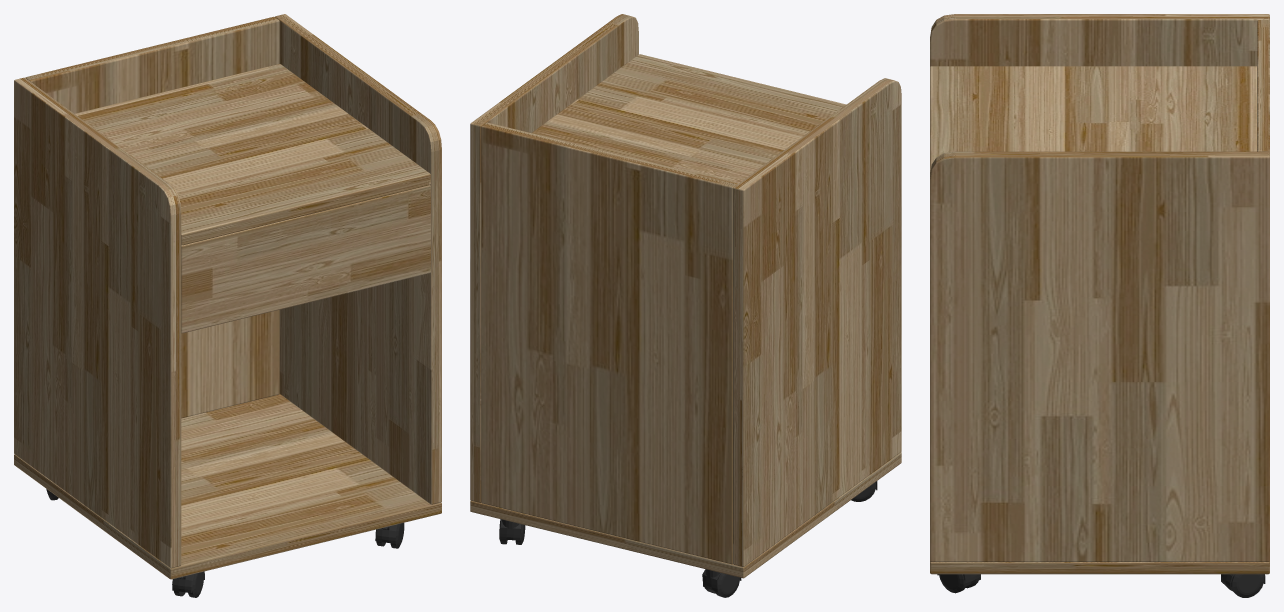
3 renders of one model, left to right at view 1: azimuth 30°, elevation 25°; view 2: azimuth 150°, elevation 25°; view 3: azimuth 270°, elevation 25°, orthographic. The views are drawn at different scales.
Parts seen in each view (by area): view 1: Object.012, Object010.003, Object006.003, Object002.009, Object004.004, Object008.003, 4483893, 4483892; view 2: Object008.003, Object.012, Object006.003, Object010.003, Object002.009, 4483894; view 3: Object010.003, Object006.003, Object.012, Object002.009, Object008.003, 4483895, 4483892.
Part boxes in pixels (left/top/right/bottom): Object.012: left=14, top=77, right=181, bottom=568; Object010.003: left=275, top=14, right=441, bottom=504; Object006.003: left=74, top=64, right=430, bottom=245; Object002.009: left=14, top=394, right=441, bottom=579; Object004.004: left=181, top=185, right=430, bottom=333; Object008.003: left=25, top=16, right=279, bottom=418; 4483893: left=172, top=571, right=204, bottom=597; 4483892: left=375, top=523, right=404, bottom=548; Object008.003: left=481, top=122, right=737, bottom=564; Object.012: left=733, top=78, right=901, bottom=566; Object006.003: left=532, top=54, right=846, bottom=183; Object010.003: left=470, top=14, right=638, bottom=502; Object002.009: left=470, top=452, right=901, bottom=578; 4483894: left=702, top=569, right=741, bottom=597; Object010.003: left=930, top=151, right=1269, bottom=561; Object006.003: left=930, top=66, right=1257, bottom=173; Object.012: left=930, top=14, right=1269, bottom=66; Object002.009: left=930, top=561, right=1269, bottom=574; Object008.003: left=1257, top=20, right=1269, bottom=152; 4483895: left=1221, top=574, right=1265, bottom=597; 4483892: left=937, top=574, right=980, bottom=593.
Size of the model in its own units: 40.5 by 59.54 by 40.5.
Materials: 2 (1 with a texture image).
